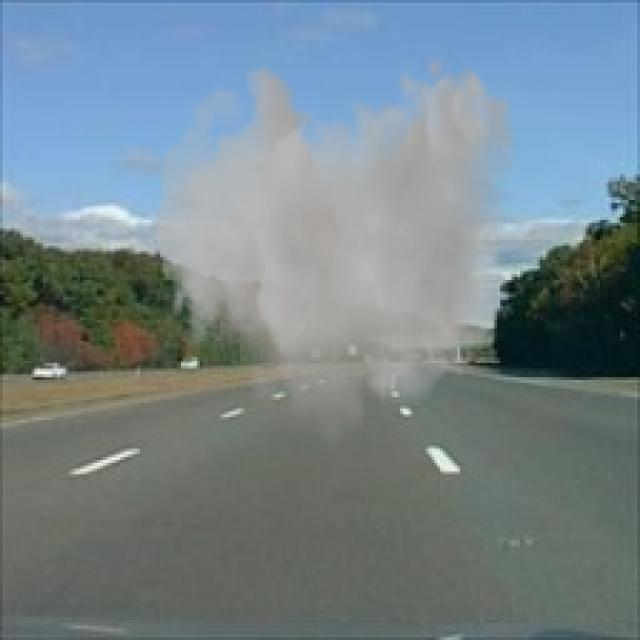smoke: (157, 54, 517, 457)
